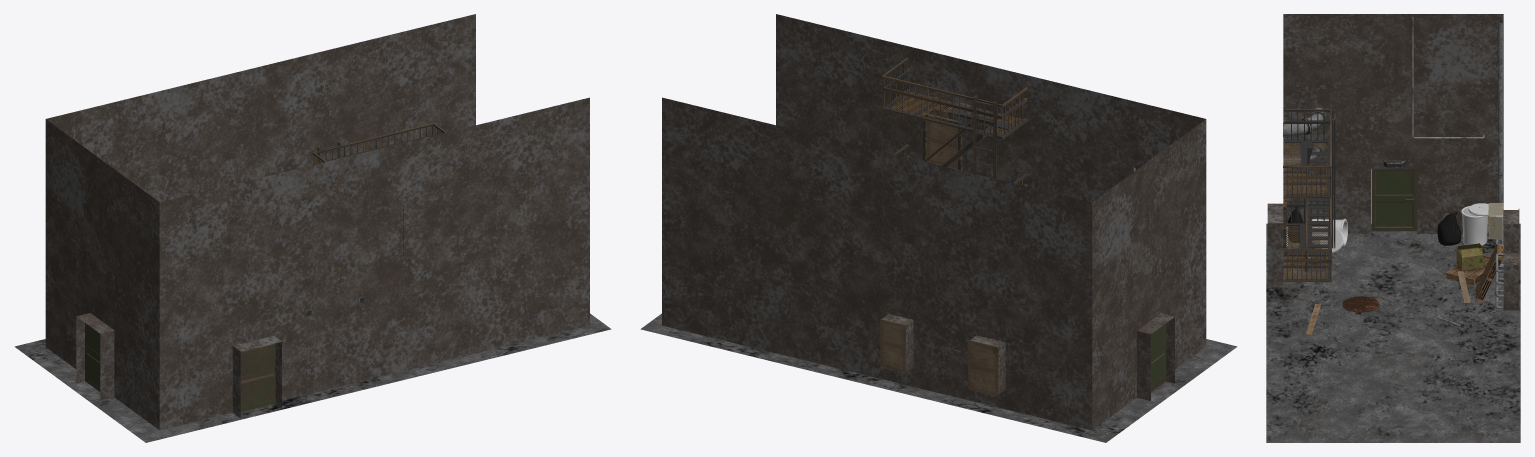
The model's file is Alley.fbx.
3 views of the same model, side by side, from view 1: azimuth 30°, elevation 25°; view 2: azimuth 150°, elevation 25°; view 3: azimuth 270°, elevation 25° (orthographic). The views are drawn at different scales.
Parts seen in each view (by area): view 1: walls, floor, side_door, stairs, front_door; view 2: walls, floor, stairs, pPlane7, window, pPlane6, front_door; view 3: floor, walls, stairs, front_door, trash_can_2, pipe, cardbox, pallet_2, trash_can_1, trash_1, ac, c_pipe_1 (+5 smaller).
Part boxes in pixels (x1,y1,x2,y2): walls: (45, 14, 589, 430); floor: (14, 313, 611, 442); side_door: (233, 343, 275, 411); stairs: (312, 123, 459, 290); front_door: (85, 323, 100, 391); walls: (662, 14, 1206, 430); floor: (640, 313, 1237, 442); stairs: (881, 58, 1028, 186); pPlane7: (967, 340, 998, 396); window: (923, 113, 962, 170); pPlane6: (880, 319, 905, 373); front_door: (1151, 323, 1166, 392); floor: (1266, 223, 1520, 442); walls: (1267, 14, 1518, 310); stairs: (1283, 109, 1335, 281); front_door: (1371, 169, 1417, 231); trash_can_2: (1461, 203, 1488, 245); pipe: (1497, 20, 1503, 202); cardbox: (1456, 243, 1484, 270); pallet_2: (1475, 243, 1503, 303); trash_can_1: (1311, 218, 1347, 253); trash_1: (1437, 211, 1461, 245); ac: (1488, 203, 1503, 248); c_pipe_1: (1283, 107, 1325, 136).
Size of the model in its own units: 16.51 by 7.74 by 8.08.
